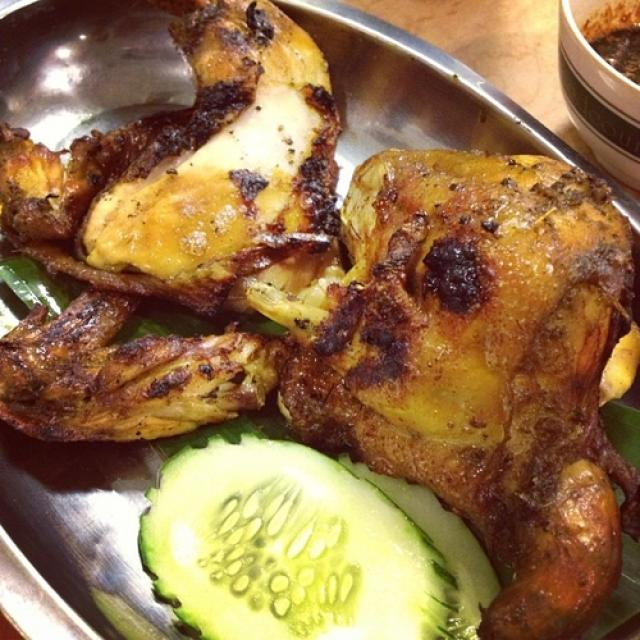鸡肉料理 含炸鸡: (22, 21, 617, 628)
